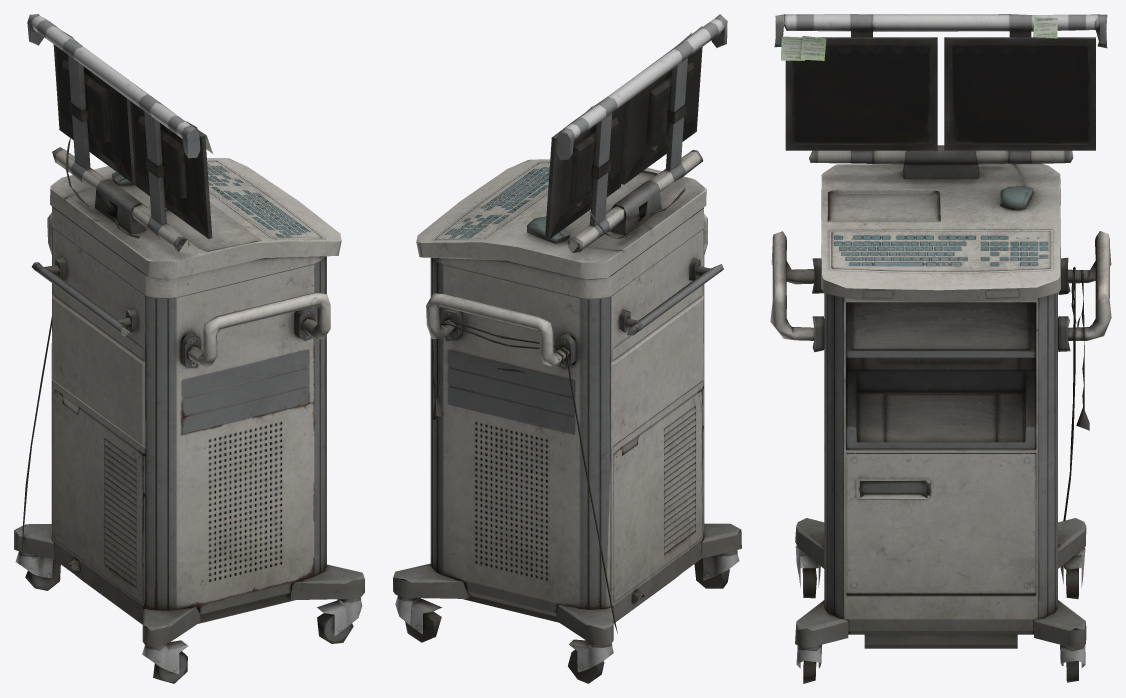
File: ctfbx.fbx
3 views of the same model, side by side, from view 1: azimuth 30°, elevation 25°; view 2: azimuth 150°, elevation 25°; view 3: azimuth 270°, elevation 25° (orthographic). The views are drawn at different scales.
Parts seen in each view (by area): view 1: SM_MedicalDevice_01a; view 2: SM_MedicalDevice_01a; view 3: SM_MedicalDevice_01a.
Boxes of the visible parts, bbox=[...] form: SM_MedicalDevice_01a: bbox=[14, 14, 364, 683]; SM_MedicalDevice_01a: bbox=[393, 14, 741, 683]; SM_MedicalDevice_01a: bbox=[770, 14, 1111, 683].
Size of the model in its own units: 66.53 by 161 by 85.07.
Materials: 1 (1 with a texture image).
